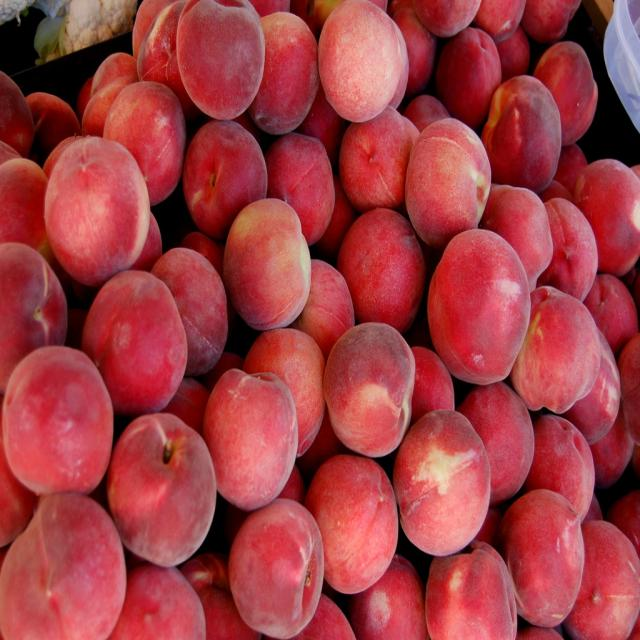Peach: (0, 0, 639, 639), (219, 199, 311, 336)
